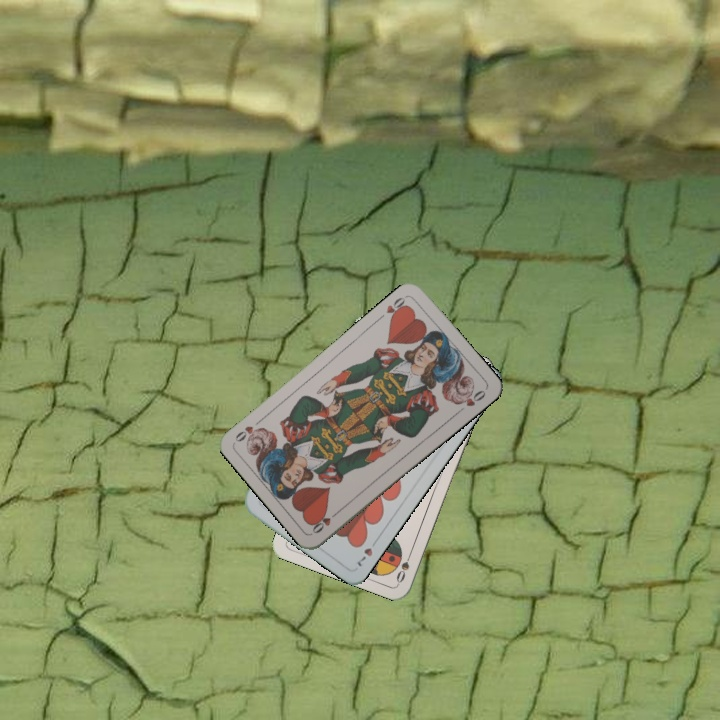H7: (353, 535, 381, 570)
HO: (308, 506, 343, 536), (382, 292, 411, 323)
SO: (392, 547, 415, 585)
